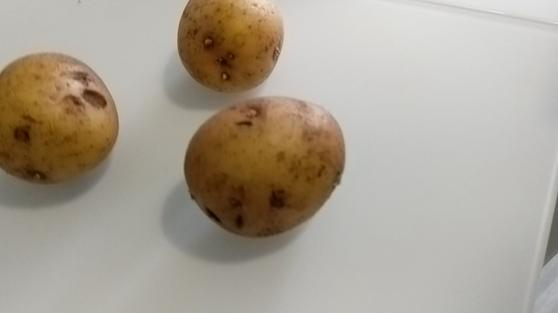potato: (184, 97, 346, 238), (2, 51, 122, 184), (178, 1, 288, 91)
